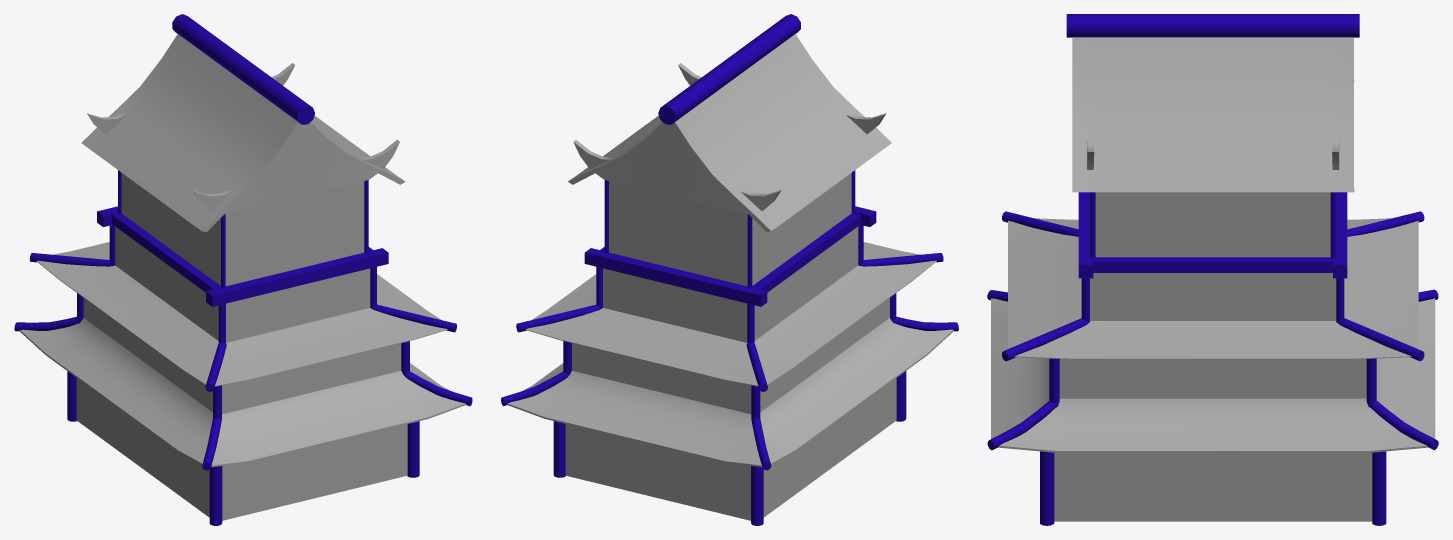
The model's file is Building_003.fbx.
3 renders of one model, left to right at view 1: azimuth 30°, elevation 25°; view 2: azimuth 150°, elevation 25°; view 3: azimuth 270°, elevation 25°, orthographic. The views are drawn at different scales.
Parts seen in each view (by area): view 1: top1; view 2: top1; view 3: top1.
Part boxes in pixels (bbox=[...]): top1: bbox=[14, 14, 472, 525]; top1: bbox=[501, 14, 958, 525]; top1: bbox=[987, 14, 1438, 525].
Size of the model in its own units: 1097 by 1499 by 1357.
